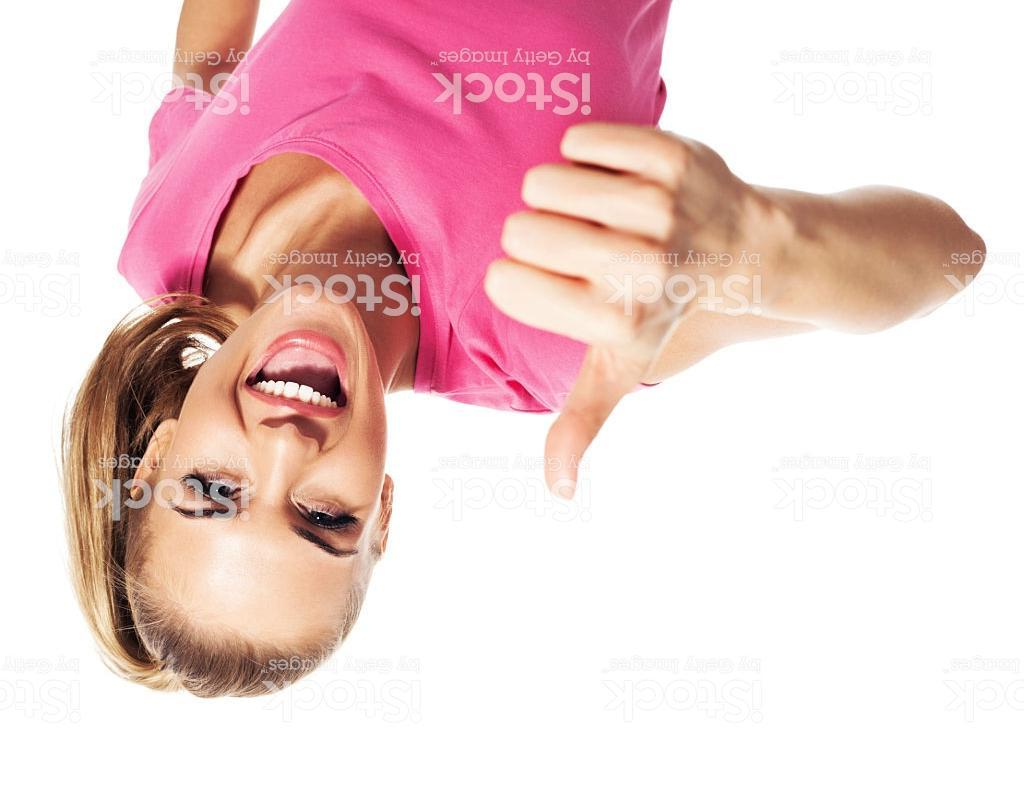thumbsdown: (479, 116, 721, 504)
